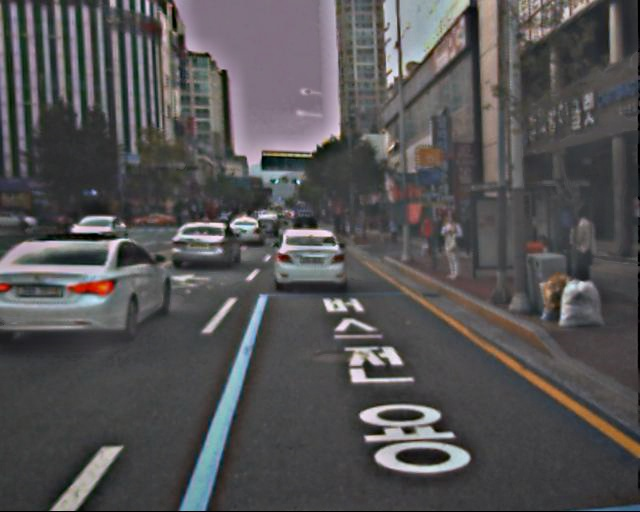person: (561, 207, 604, 313), (435, 207, 465, 279), (418, 211, 437, 257)
